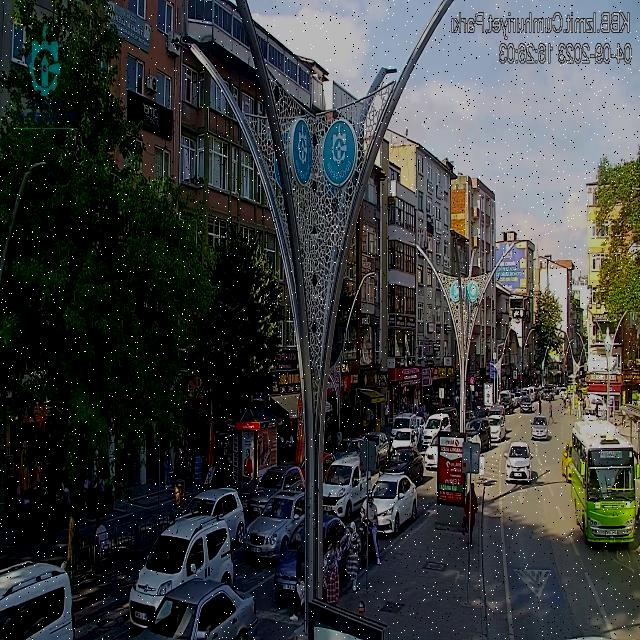Bus: (570, 417, 640, 544)
Car: (126, 577, 256, 639), (277, 514, 342, 611), (0, 561, 74, 637), (244, 488, 307, 561), (364, 473, 416, 535), (322, 458, 369, 522), (380, 448, 424, 487), (421, 412, 454, 449), (504, 442, 534, 482), (464, 417, 492, 452), (362, 432, 390, 467), (391, 427, 418, 454), (487, 416, 506, 442), (530, 416, 549, 441), (410, 415, 426, 444), (423, 442, 439, 470), (519, 398, 533, 412)
Van: (131, 513, 232, 626)
